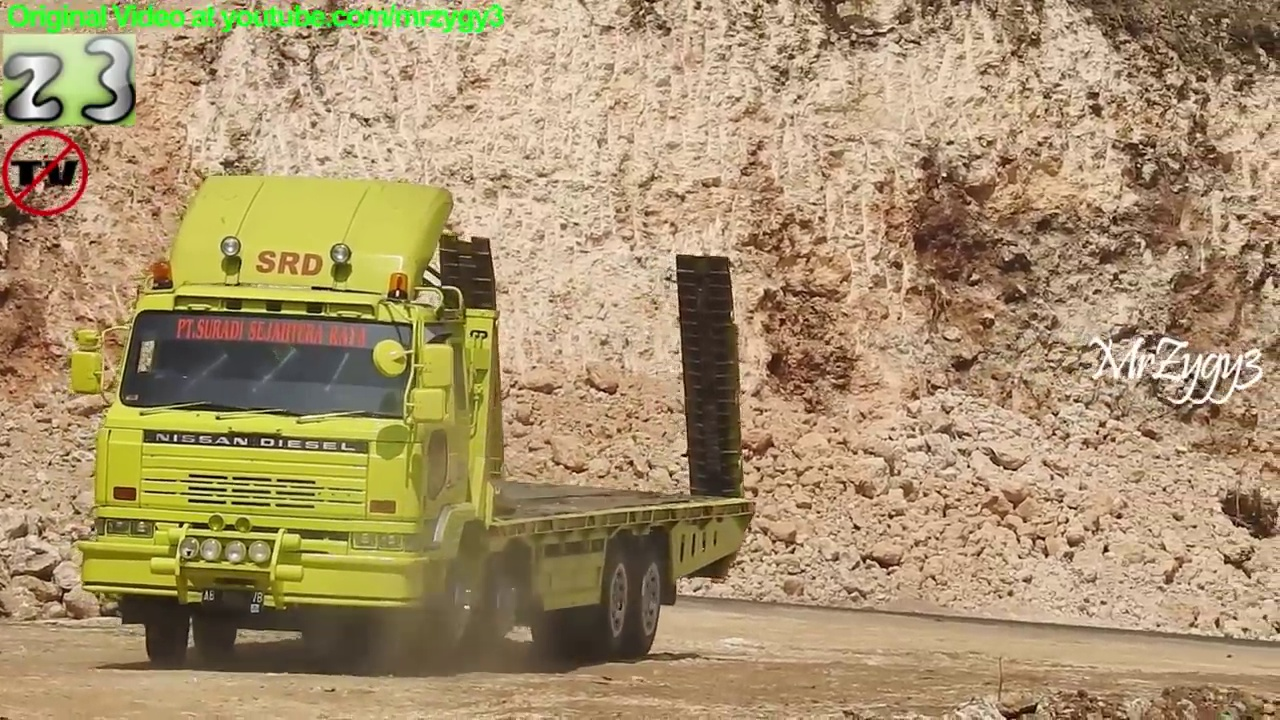truck: (67, 168, 765, 683)
